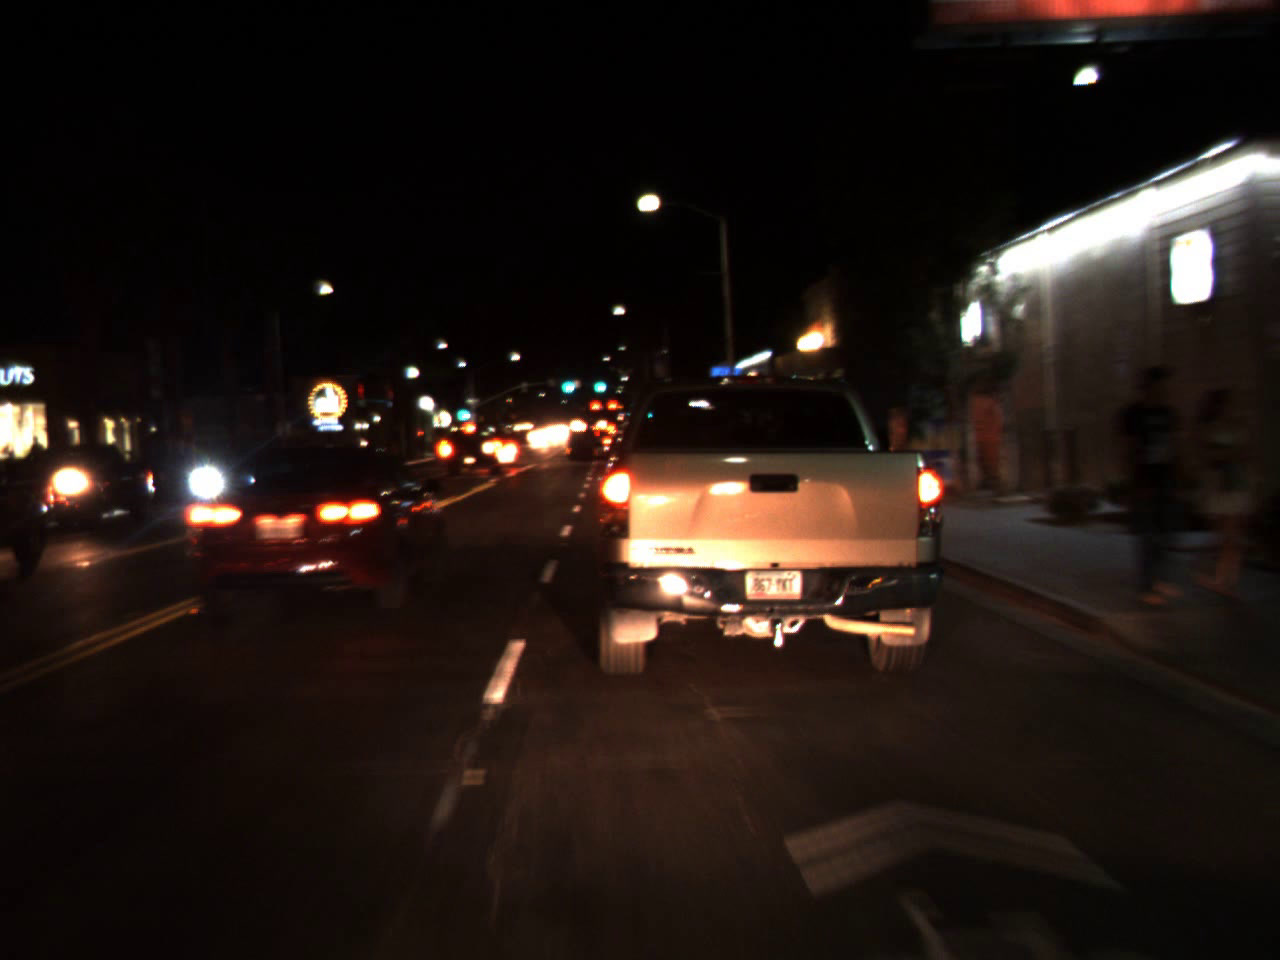go: (557, 365, 575, 398), (453, 395, 471, 425), (589, 369, 608, 396)
